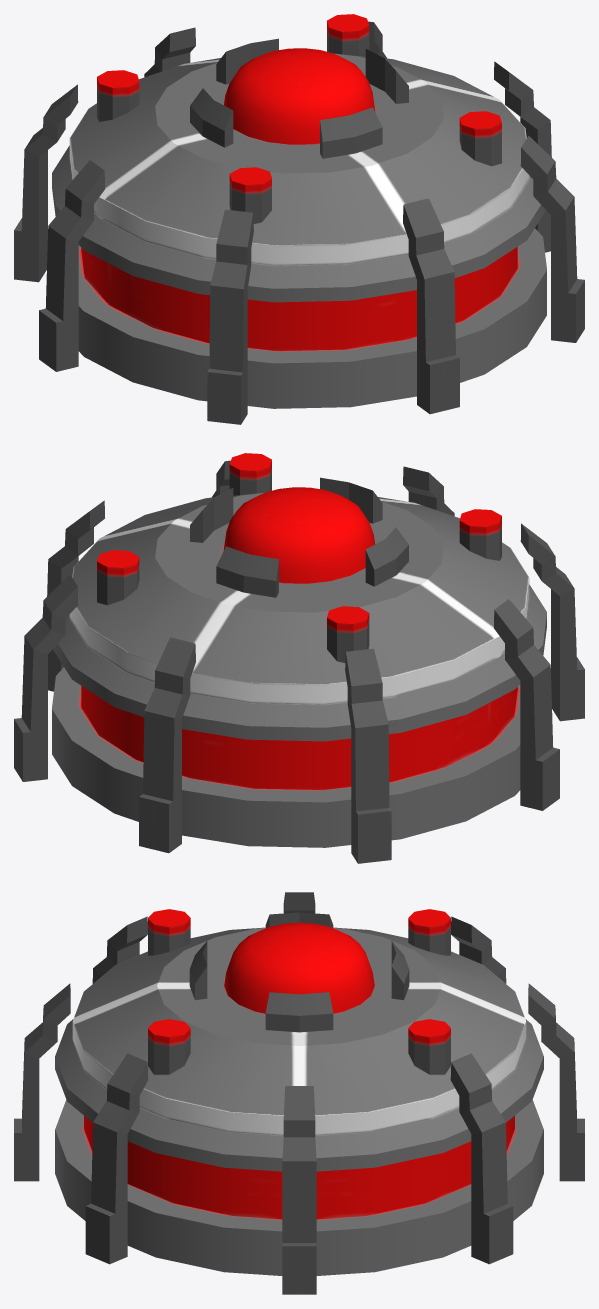
3 renders of one model, top to bottom at view 1: azimuth 30°, elevation 25°; view 2: azimuth 150°, elevation 25°; view 3: azimuth 270°, elevation 25°, orthographic.
Visible parts, largest first — view 1: P_Base; view 2: P_Base; view 3: P_Base.
Part boxes in pixels (x1,y1,x2,y2): P_Base: (14, 14, 584, 424); P_Base: (14, 453, 584, 863); P_Base: (14, 892, 584, 1294).
Size of the model in its own units: 39.84 by 18.32 by 39.84.
1 material, 1 textured.
